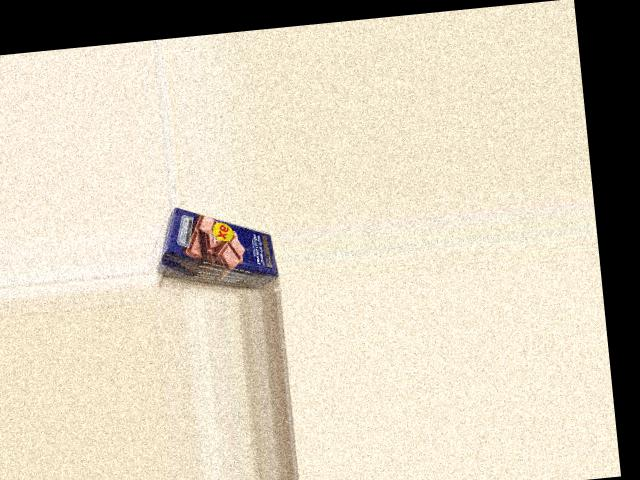chocolate: (159, 196, 279, 294)
